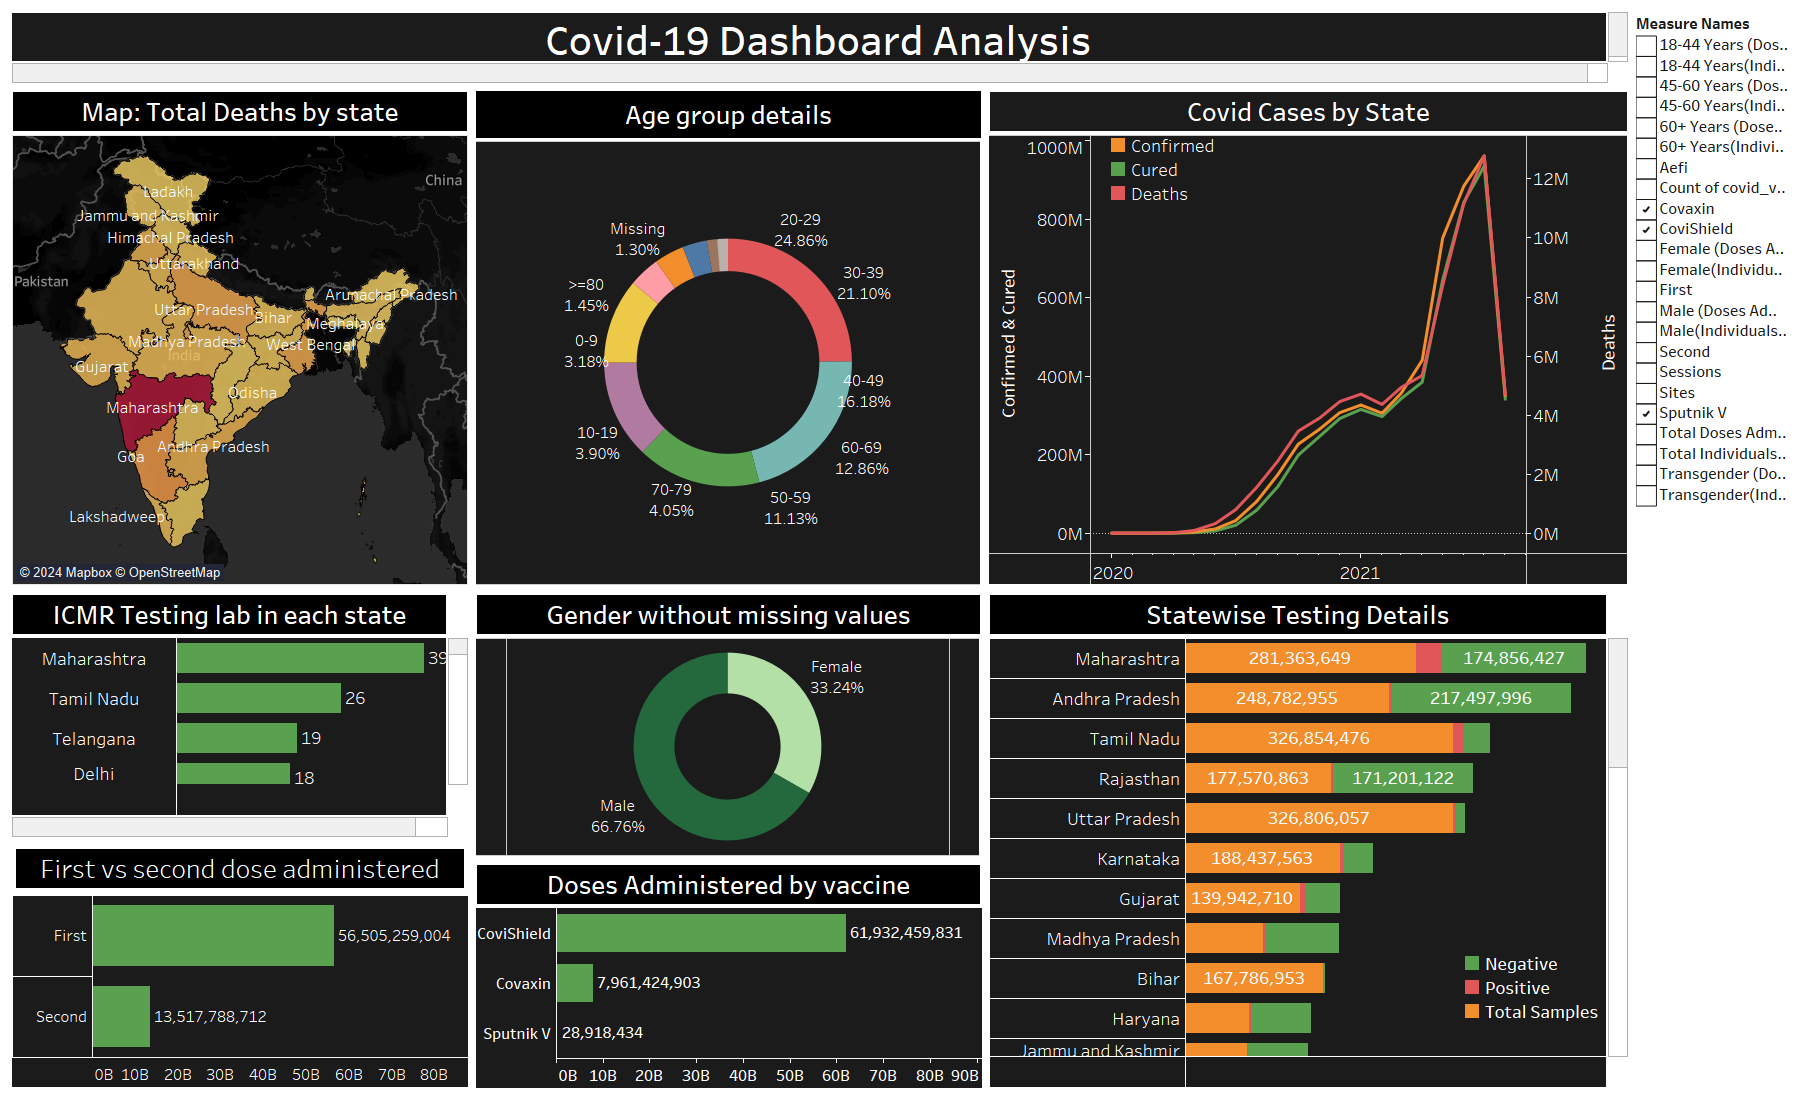

The dashboard page shown, as its layout file describes it:
{"tool":"tableau","page":{"name":"Dashboard 1","canvas":[1800,1100],"ordinal":0},"visuals":[{"type":"worksheet","title":"Title","mark":"Automatic","box":[8,8,1624,57]},{"type":"filter","title":"Doses administered by vaccine","param":"[federated.1li3as61iag00c13s7a7h0vgo3am].[:Measure Names]","box":[1632,8,160,588]},{"type":"worksheet","title":"Map: Total deaths by states","mark":"Automatic","box":[8,65,464,513.5]},{"type":"worksheet","title":"Age group details","mark":"Pie","rows":["Calculation_1563030563888451585","Calculation_1563030563888668675"],"box":[472,65,513,514]},{"type":"worksheet","title":"Covid Cases by State","mark":"Automatic","rows":["Deaths"],"cols":["Date"],"box":[985,65,647,513.5]},{"type":"legend","title":"Covid Cases by State","param":"[federated.121djcp0lh06b21476n2n1db23kt].[:Measure Names]","box":[1106,133,140,72]},{"type":"worksheet","title":"ICMR Testing lab in each state","mark":"Automatic","rows":["state"],"cols":["lab"],"box":[8,578.5,464,256.7]},{"type":"worksheet","title":"Statewise Testing Details","mark":"Automatic","rows":["State"],"box":[985,578.5,647,513.5]},{"type":"worksheet","title":"Gender without missing values","mark":"Pie","rows":["Calculation_1563030563901698053","Calculation_1563030563901698053"],"box":[472,579,513,276]},{"type":"worksheet","title":"First vs second dose administered","mark":"Automatic","box":[8,835.3,464,256.8]},{"type":"worksheet","title":"Doses administered by vaccine","mark":"Automatic","box":[472,855,513,237]},{"type":"legend","title":"Statewise Testing Details","param":"[federated.1oo3icv16tpif2170bbqa0d1qnev].[:Measure Names]","box":[1460,951,143,96]}]}

Visuals, with their boxes in screenshot pixels (x1, y1, x2, y2), scaled from the page's 1800x1100 canvas onto the 1800x1100 screenshot:
"Title" worksheet: bbox(8, 8, 1632, 65)
"Doses administered by vaccine" filter: bbox(1632, 8, 1792, 596)
"Map: Total deaths by states" worksheet: bbox(8, 65, 472, 578)
"Age group details" worksheet (Pie marks): bbox(472, 65, 985, 579)
"Covid Cases by State" worksheet: bbox(985, 65, 1632, 578)
"Covid Cases by State" legend: bbox(1106, 133, 1246, 205)
"ICMR Testing lab in each state" worksheet: bbox(8, 578, 472, 835)
"Statewise Testing Details" worksheet: bbox(985, 578, 1632, 1092)
"Gender without missing values" worksheet (Pie marks): bbox(472, 579, 985, 855)
"First vs second dose administered" worksheet: bbox(8, 835, 472, 1092)
"Doses administered by vaccine" worksheet: bbox(472, 855, 985, 1092)
"Statewise Testing Details" legend: bbox(1460, 951, 1603, 1047)
